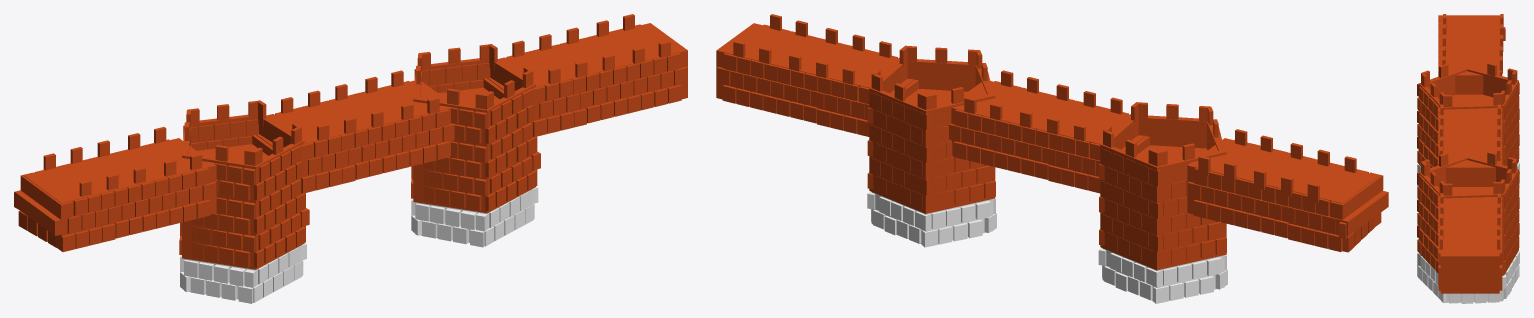
The model's file is bridge.fbx.
3 renders of one model, left to right at view 1: azimuth 30°, elevation 25°; view 2: azimuth 150°, elevation 25°; view 3: azimuth 270°, elevation 25°, orthographic. The views are drawn at different scales.
Visible parts, largest first — view 1: Cube, Cube_2_3, Cube_4_5, Cylinder_1_2, Cylinder_1, Cube_34, Cube_116, Cylinder, Cylinder_2; view 2: Cylinder_1_2, Cylinder_1, Cube, Cube_2_3, Cube_4_5, Cube_34, Cube_116, Cylinder, Cylinder_2; view 3: Cube_2_3, Cube_4_5, Cube, Cylinder_1_2, Cylinder_1, Cylinder, Cube_131, Cube_130, Cube_132, Cube_3_4, Cube_8_3, Cube_5_6 (+20 smaller).
Boxes of the visible parts, x1,y1,x2,y2 form: Cube: (24, 138, 216, 236); Cube_2_3: (498, 23, 687, 121); Cube_4_5: (266, 80, 453, 177); Cylinder_1_2: (182, 114, 304, 269); Cylinder_1: (413, 58, 535, 213); Cube_34: (14, 190, 67, 235); Cube_116: (20, 172, 73, 219); Cylinder: (415, 188, 533, 242); Cylinder_2: (184, 245, 302, 299); Cylinder_1_2: (1100, 115, 1226, 270); Cylinder_1: (869, 59, 995, 213); Cube: (1187, 138, 1379, 235); Cube_2_3: (716, 23, 899, 120); Cube_4_5: (951, 80, 1130, 176); Cube_34: (1335, 190, 1388, 236); Cube_116: (1330, 172, 1383, 219); Cylinder: (871, 192, 993, 243); Cylinder_2: (1102, 248, 1224, 300); Cube_2_3: (1440, 197, 1499, 293); Cube_4_5: (1443, 108, 1499, 186); Cube: (1440, 16, 1499, 94); Cylinder_1_2: (1419, 66, 1518, 165); Cylinder_1: (1419, 155, 1518, 275); Cylinder: (1421, 255, 1505, 302); Cube_131: (1461, 293, 1473, 303); Cube_130: (1474, 293, 1486, 303); Cube_132: (1449, 293, 1460, 303); Cube_3_4: (1493, 181, 1502, 194); Cube_8_3: (1443, 183, 1452, 195); Cube_5_6: (1493, 93, 1502, 105).
Bounding box in the file's own units: 1882 × 426 × 336.
